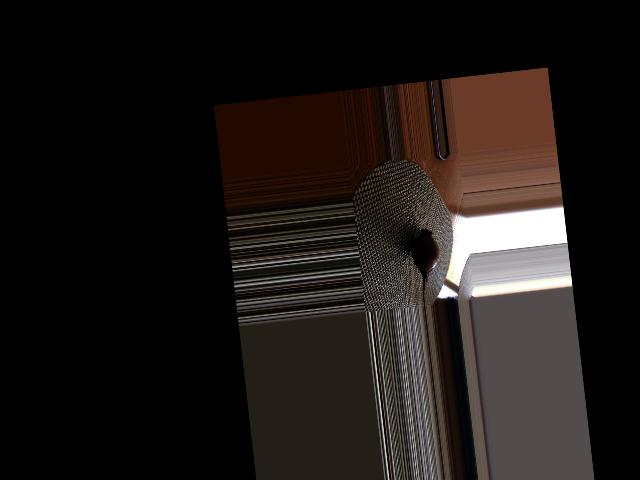beet: (409, 227, 445, 305)
